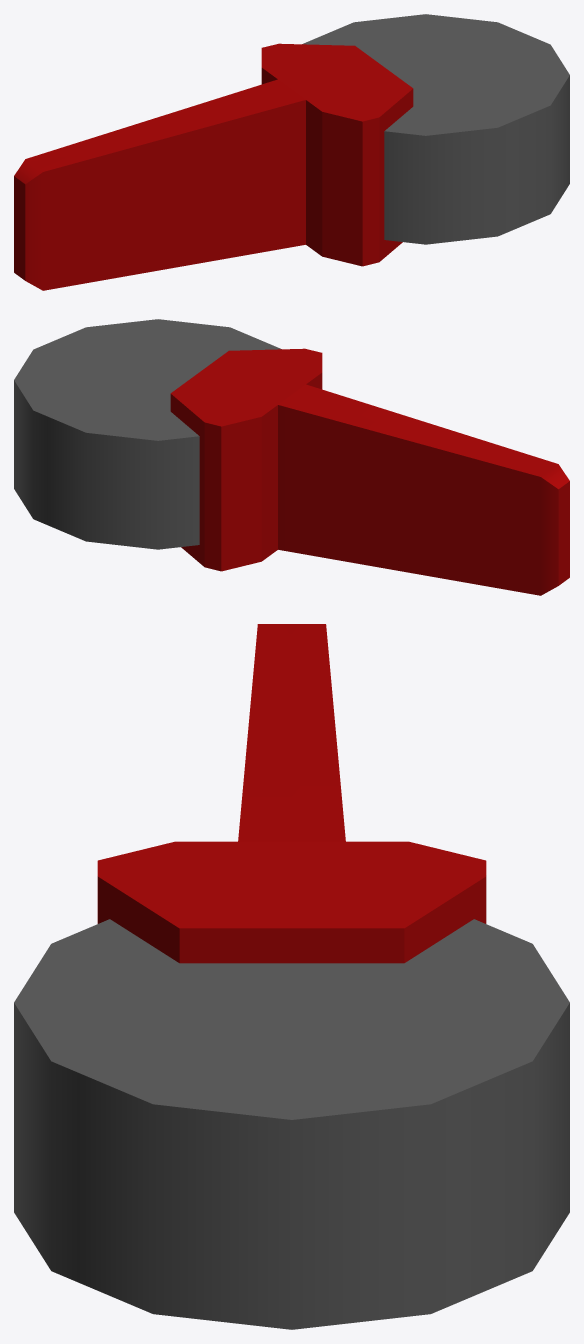
The model's file is Knob.fbx.
The picture shows the model from 3 angles, top to bottom: view 1: azimuth 30°, elevation 25°; view 2: azimuth 150°, elevation 25°; view 3: azimuth 270°, elevation 25°; orthographic projection. The views are drawn at different scales.
Parts seen in each view (by area): view 1: Switch_3; view 2: Switch_3; view 3: Switch_3.
Boxes of the visible parts, box(x1,y1,x2,y2) form: Switch_3: box(14, 14, 569, 290); Switch_3: box(14, 319, 569, 595); Switch_3: box(14, 624, 569, 1329).
Size of the model in its own units: 3.89 by 1.02 by 1.83.
